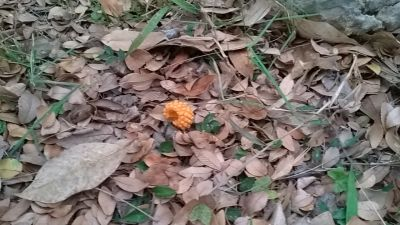eggs: (165, 98, 195, 129)
